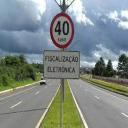speed_limit_40: (50, 13, 75, 48)
